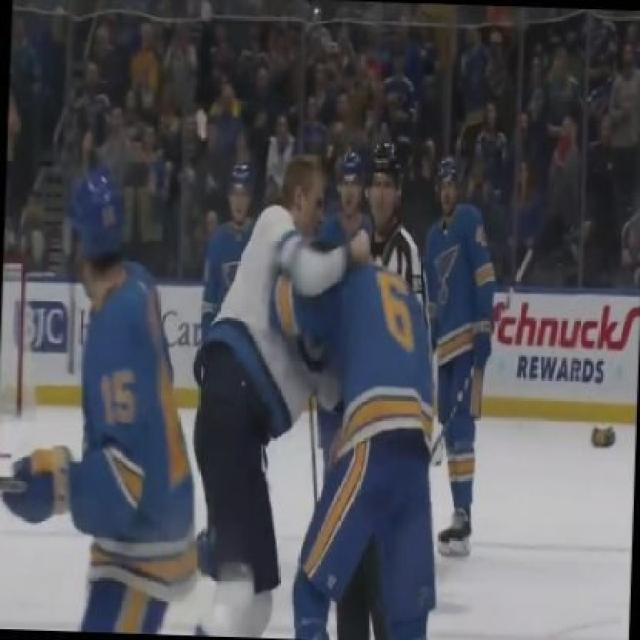fight: (183, 148, 440, 640)
non-fight: (0, 164, 194, 634), (421, 152, 507, 560)
